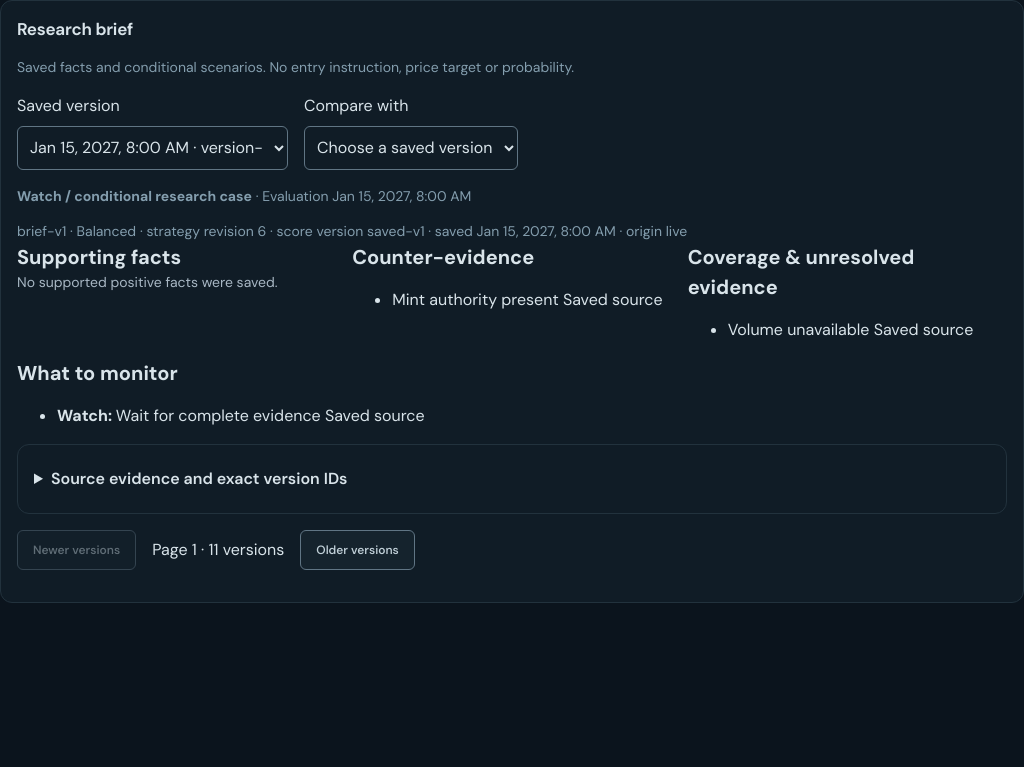
Scenario: compares stable versions across archive pages without losing the selected case
Expected: the text "Mint authority present" is shown, [392,288,559,310]
Select "Jan 15, 2027, 8:00 AM · version-" in the dropdown labelled "Saved version": (152, 148) [17,126,288,170]
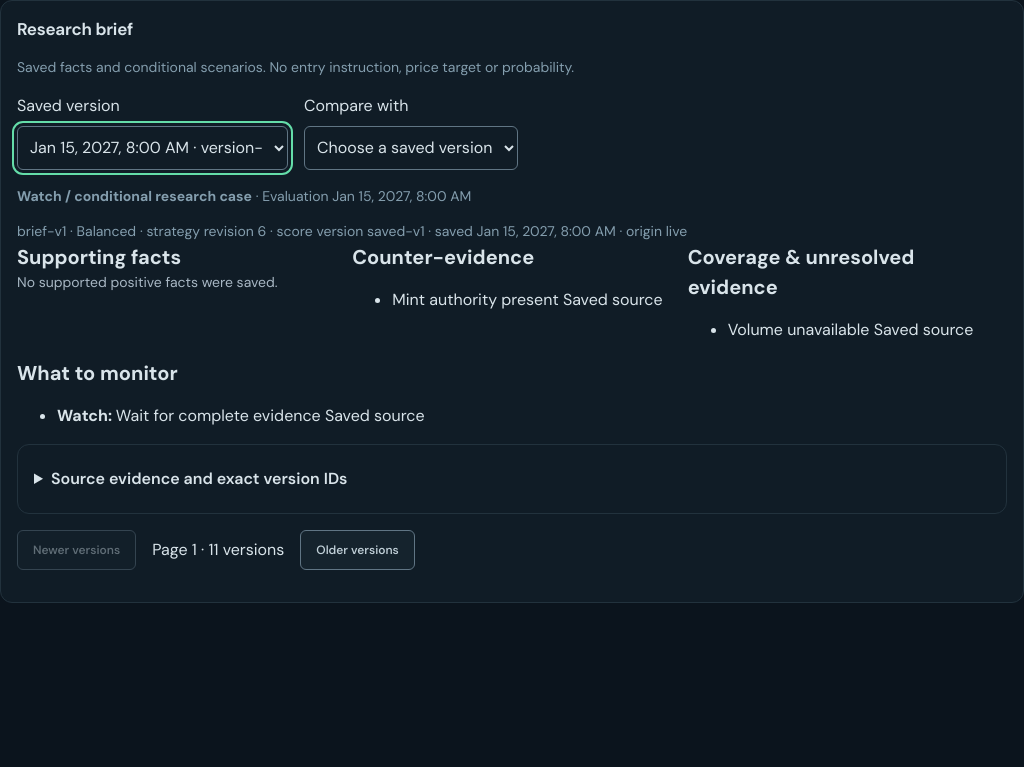
Click the button "Older versions": click(358, 550) [300,530,415,570]
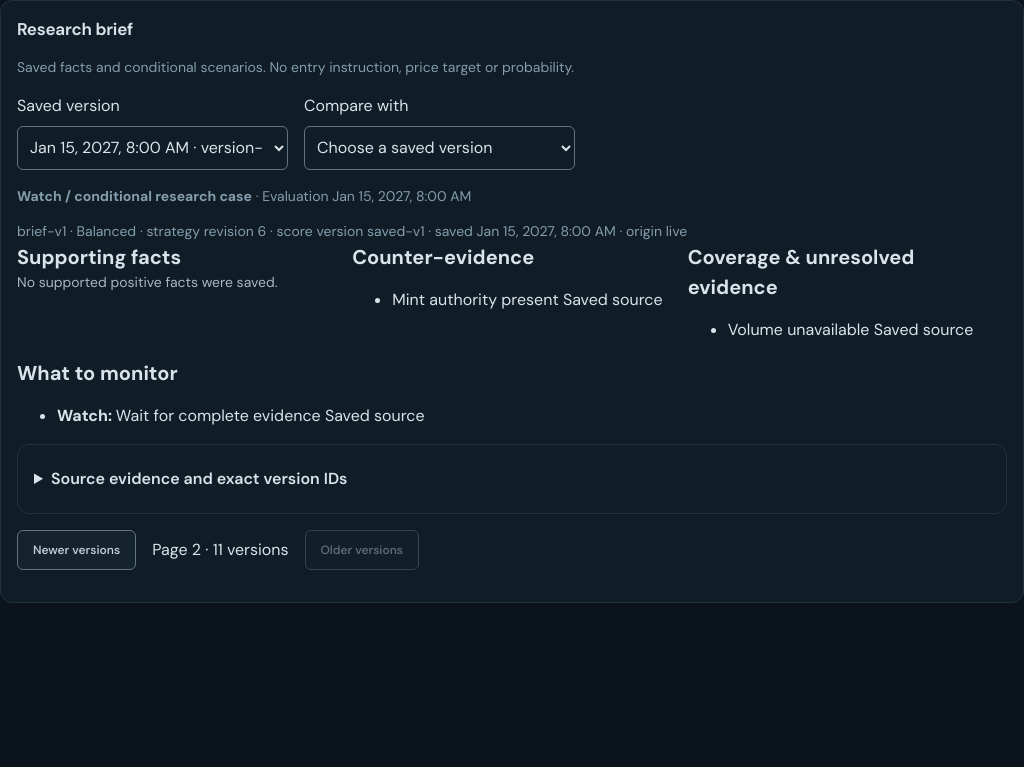
Expected: the text "Page 2 · 11 versions" is shown, [152,538,288,562]
Select "Jan 15, 2027, 8:00 AM · version-" in the dropdown labelled "Compare with": (440, 148) [304,126,575,170]
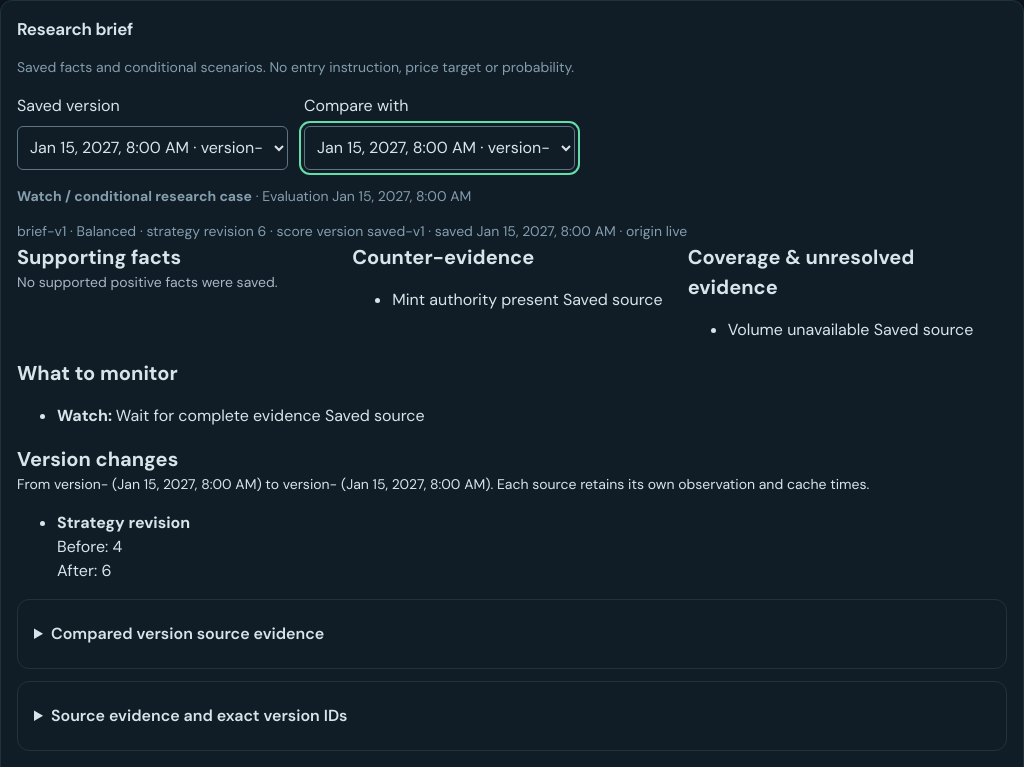
Expected: the dropdown labelled "Saved version" shows "Jan 15, 2027, 8:00 AM · version-", [17,126,288,170]
Expected: the element "Version changes" is shown, [17,444,1007,668]
